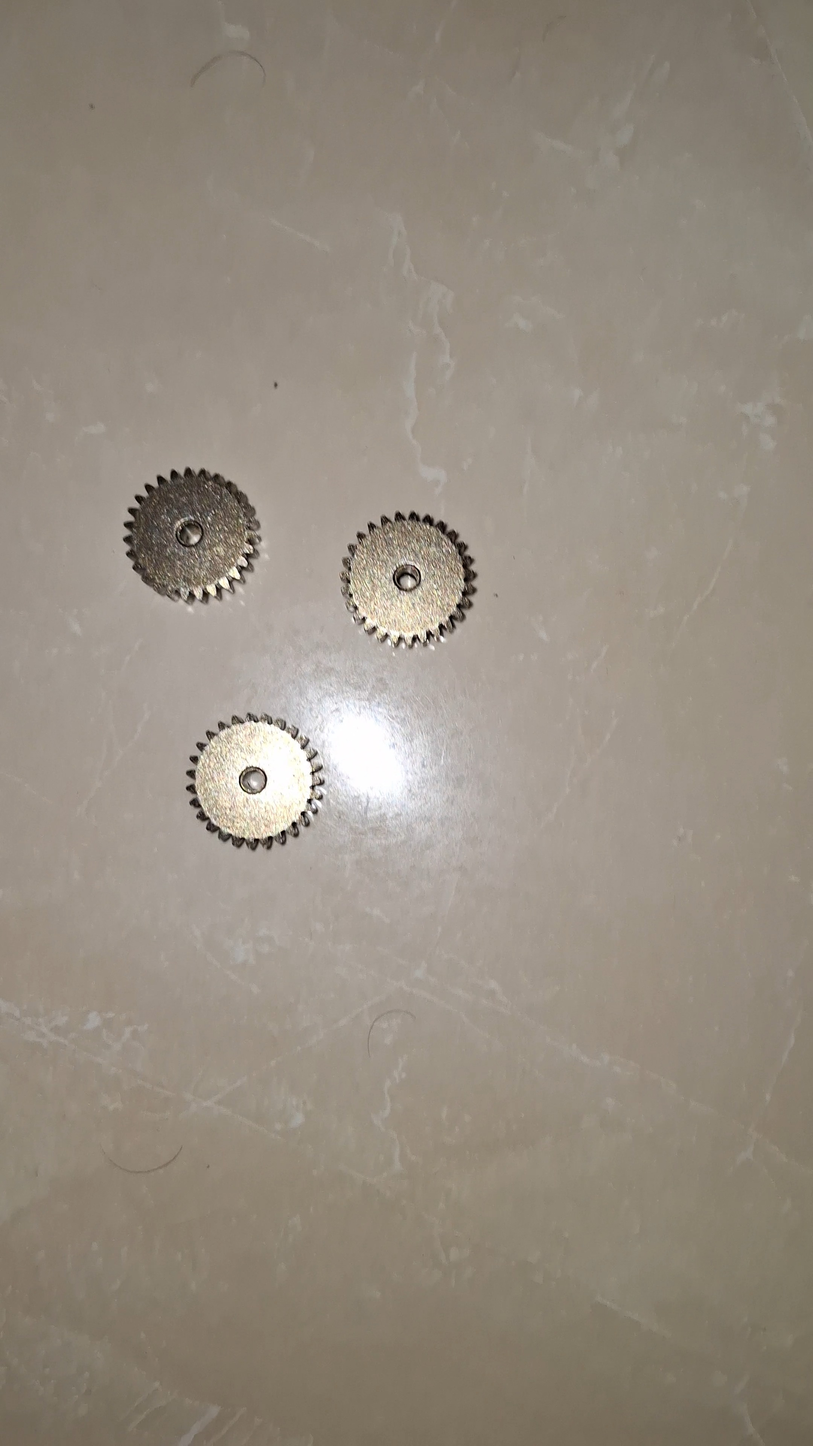spur gear: (188, 714, 323, 849), (341, 512, 475, 646), (125, 468, 260, 601)
